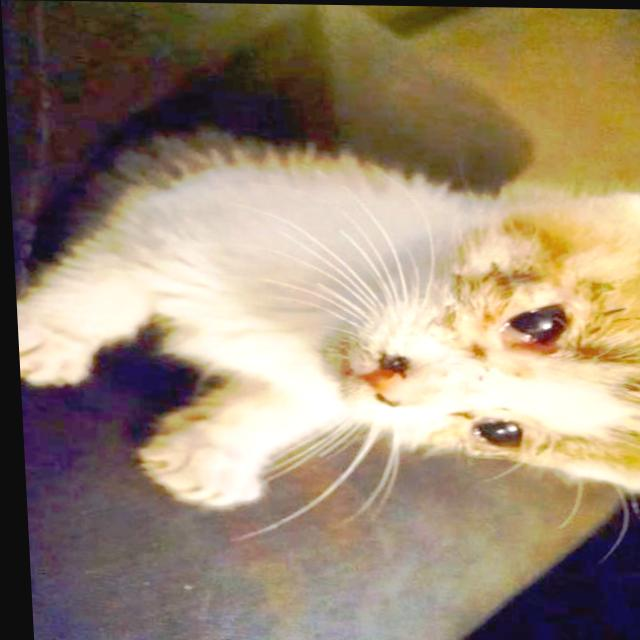eye_infection: (499, 300, 571, 358), (470, 418, 522, 456)
